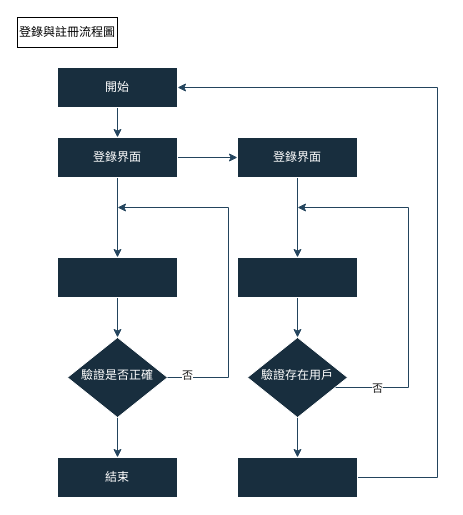
Image size: 463x515. Some labels were removed from this diagram. The shapes that lost their labels are listed below. From the top down, each one's box as (x1, y1, x2, y2) in pixels, then its label:
(56, 256, 178, 298): 輸入登錄信息
(236, 256, 358, 298): 輸入註冊信息
(236, 456, 358, 498): 插入資料庫
